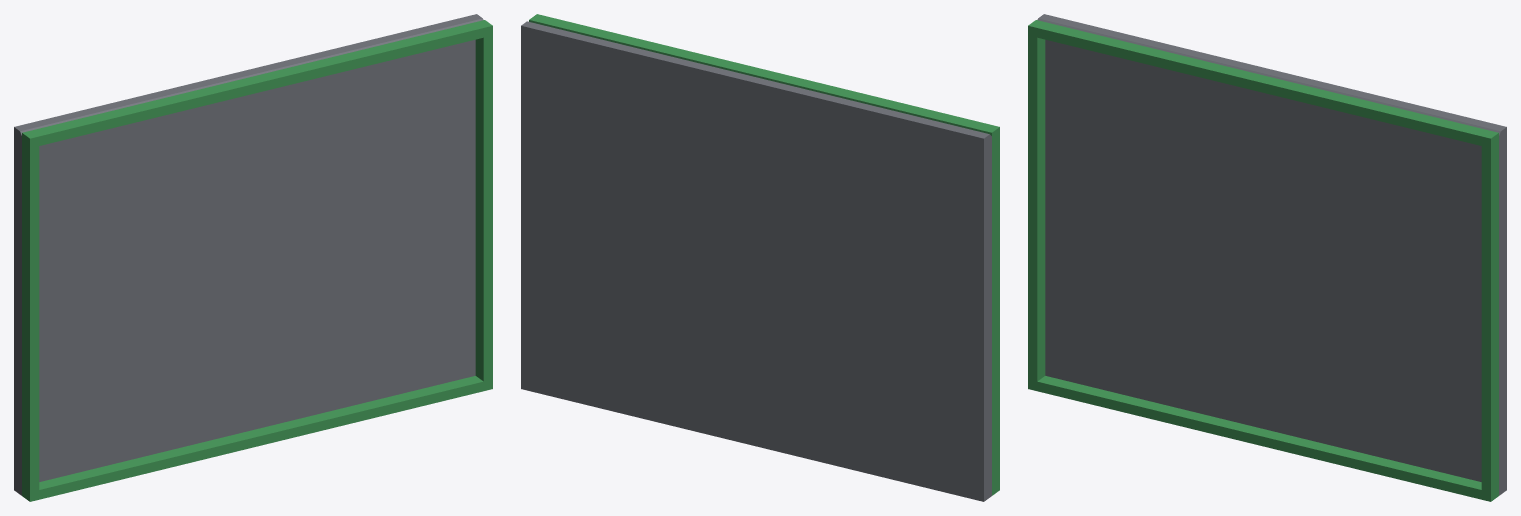
The model's file is deck.obj.
3 renders of one model, left to right at view 1: azimuth 30°, elevation 25°; view 2: azimuth 150°, elevation 25°; view 3: azimuth 330°, elevation 25°, orthographic.
Visible parts, largest first — view 1: deck, lip; view 2: deck, lip; view 3: deck, lip.
Part boxes in pixels (x1,y1,x2,y2): deck: (14, 14, 483, 495); lip: (22, 20, 492, 501); deck: (521, 21, 991, 501); lip: (529, 14, 999, 495); deck: (1037, 14, 1506, 495); lip: (1028, 20, 1498, 501).
Size of the model in its own units: 0.4 by 0.3 by 0.024.
